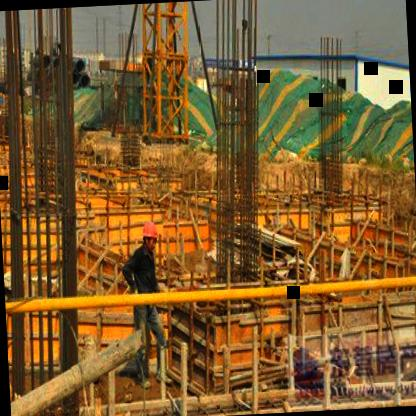helmet: (138, 218, 160, 253)
